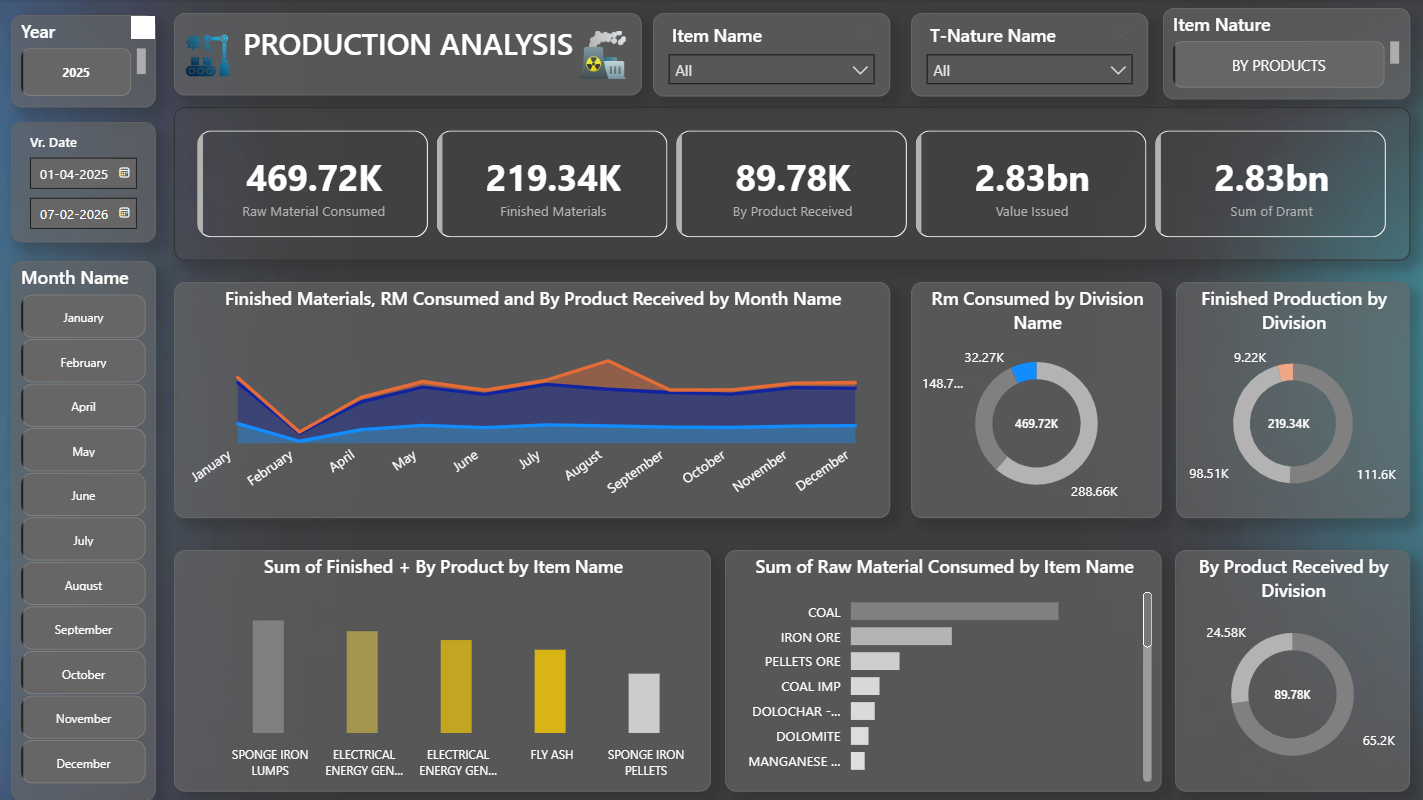

The page's visual inventory and layout, read from the dashboard file:
{"tool":"powerbi","page":{"name":"Production Analysis","canvas":[1280,720],"ordinal":2},"visuals":[{"type":"slicer","fields":{"Values":["Production Analysis.Vr. Date"]},"box":[11.8,110,130,108.2],"z":0},{"type":"advancedSlicerVisual","fields":{"Values":["Production Analysis.Year"]},"box":[11.7,14.4,130.2,82.6],"z":1000},{"type":"stackedAreaChart","title":"Finished Materials, RM Consumed and By Product Received by Month Name","fields":{"Y":["Sum(Production Analysis.Finished Materials)","Sum(Production Analysis.Raw Material Consumed)","Sum(Production Analysis.By Product Received)"],"Category":["Production Analysis.Month Name"]},"box":[158,254.1,642.8,211.9],"z":2000},{"type":"advancedSlicerVisual","fields":{"Values":["Production Analysis.Item Nature"]},"box":[1045.5,8.2,221.8,81.8],"z":3000},{"type":"donutChart","fields":{"Category":["Production Analysis.Division Name"],"Y":["Sum(Production Analysis.Finished Materials)"]},"box":[1057.6,254.1,210.1,211.9],"z":4000},{"type":"cardVisual","fields":{"Data":["Sum(Production Analysis.Raw Material Consumed)","Sum(Production Analysis.Finished Materials)","Sum(Production Analysis.By Product Received)","Sum(Production Analysis.Value Issued)","Sum(Production Analysis.Dramt)"]},"box":[158,97,1109.6,138.3],"z":5000},{"type":"donutChart","title":"Rm Consumed by Division Name","fields":{"Category":["Production Analysis.Division Name"],"Y":["Sum(Production Analysis.Raw Material Consumed)"]},"box":[819.7,254.1,225.3,211.9],"z":6000},{"type":"donutChart","title":"By Product Received by Division ","fields":{"Category":["Production Analysis.Division Name"],"Y":["Sum(Production Analysis.By Product Received)","Sum(Production Analysis.By Product Received)"]},"box":[1056.7,494.7,211,217.3],"z":7000},{"type":"advancedSlicerVisual","fields":{"Values":["Production Analysis.Month Name"]},"box":[11.7,235.2,130.2,484.8],"z":8000},{"type":"textbox","box":[158,12.6,420.1,73.6],"z":9000},{"type":"slicer","fields":{"Values":["Production Analysis.Item Name"]},"box":[588,12.6,212.8,75.4],"z":10000},{"type":"clusteredBarChart","fields":{"Y":["Sum(Production Analysis.Raw Material Consumed)"],"Category":["Production Analysis.Item Name"]},"box":[652.7,494.7,392.3,217.3],"z":11000},{"type":"lineStackedColumnComboChart","fields":{"Y":["Sum(Production Analysis.Finished + By Product)"],"Category":["Production Analysis.Item Name"]},"box":[158,494.7,482.1,217.3],"z":12000},{"type":"cardVisual","fields":{"Data":["Sum(Production Analysis.Raw Material Consumed)"]},"box":[888.8,349.2,88,61.9],"z":13000},{"type":"cardVisual","fields":{"Data":["Sum(Production Analysis.Finished Materials)"]},"box":[1108.7,339.4,100.5,81.7],"z":14000},{"type":"slicer","fields":{"Values":["Production Analysis.T-Nature Name"]},"box":[819.7,12.6,212.8,75.4],"z":15000},{"type":"image","box":[521.6,19.8,42.2,61],"z":16000},{"type":"image","box":[167,20.6,42.2,60.1],"z":17000},{"type":"cardVisual","fields":{"Data":["Sum(Production Analysis.By Product Received)"]},"box":[1118.6,592.5,88,61.9],"z":18000}]}

Visuals, with their boxes in screenshot pixels (x1, y1, x2, y2), scaled from the page's 1280x720 canvas onto the 1423x800 screenshot:
slicer - Production Analysis.Vr. Date: pyautogui.locateOnScreen(13, 122, 158, 242)
advancedSlicerVisual - Production Analysis.Year: pyautogui.locateOnScreen(13, 16, 158, 108)
"Finished Materials, RM Consumed and By Product Received by Month Name" stackedAreaChart: pyautogui.locateOnScreen(176, 282, 890, 518)
advancedSlicerVisual - Production Analysis.Item Nature: pyautogui.locateOnScreen(1162, 9, 1409, 100)
donutChart - Production Analysis.Division Name x Sum(Production Analysis.Finished Materials): pyautogui.locateOnScreen(1176, 282, 1409, 518)
cardVisual - Sum(Production Analysis.Raw Material Consumed) x Sum(Production Analysis.Finished Materials): pyautogui.locateOnScreen(176, 108, 1409, 261)
"Rm Consumed by Division Name" donutChart: pyautogui.locateOnScreen(911, 282, 1162, 518)
"By Product Received by Division " donutChart: pyautogui.locateOnScreen(1175, 550, 1409, 791)
advancedSlicerVisual - Production Analysis.Month Name: pyautogui.locateOnScreen(13, 261, 158, 799)
textbox: pyautogui.locateOnScreen(176, 14, 643, 96)
slicer - Production Analysis.Item Name: pyautogui.locateOnScreen(654, 14, 890, 98)
clusteredBarChart - Sum(Production Analysis.Raw Material Consumed) x Production Analysis.Item Name: pyautogui.locateOnScreen(726, 550, 1162, 791)
lineStackedColumnComboChart - Sum(Production Analysis.Finished + By Product) x Production Analysis.Item Name: pyautogui.locateOnScreen(176, 550, 712, 791)
cardVisual - Sum(Production Analysis.Raw Material Consumed): pyautogui.locateOnScreen(988, 388, 1086, 457)
cardVisual - Sum(Production Analysis.Finished Materials): pyautogui.locateOnScreen(1233, 377, 1344, 468)
slicer - Production Analysis.T-Nature Name: pyautogui.locateOnScreen(911, 14, 1148, 98)
image: pyautogui.locateOnScreen(580, 22, 627, 90)
image: pyautogui.locateOnScreen(186, 23, 233, 90)
cardVisual - Sum(Production Analysis.By Product Received): pyautogui.locateOnScreen(1244, 658, 1341, 727)
